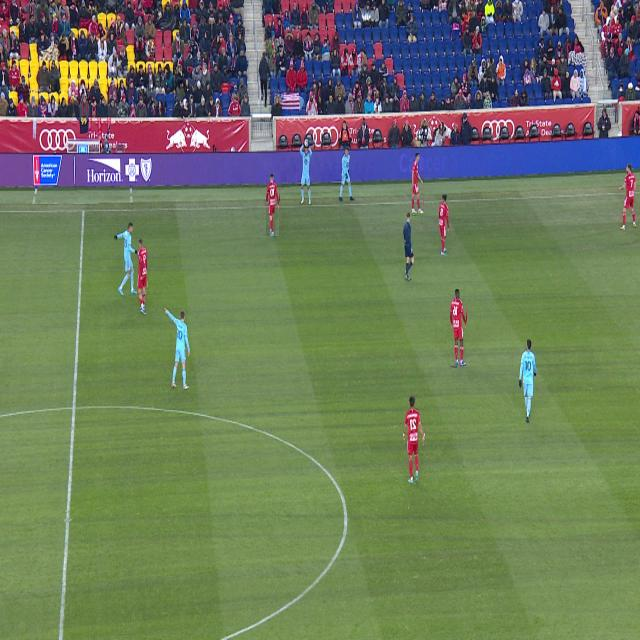player: (165, 308, 190, 389), (114, 223, 139, 295), (404, 397, 424, 483), (519, 340, 536, 422), (451, 289, 466, 366), (620, 165, 636, 230), (267, 174, 279, 236), (412, 154, 423, 214), (138, 239, 147, 310), (439, 195, 449, 255), (423, 437, 424, 443)
referee: (404, 214, 414, 271)
